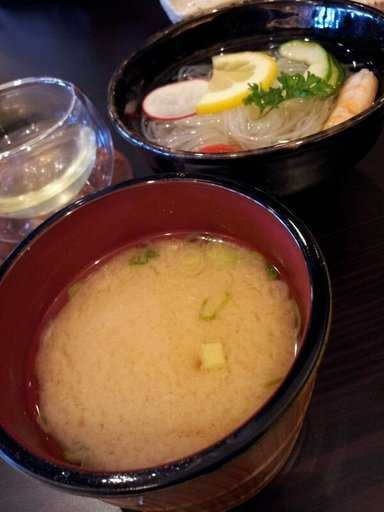soup: (11, 199, 315, 473)
